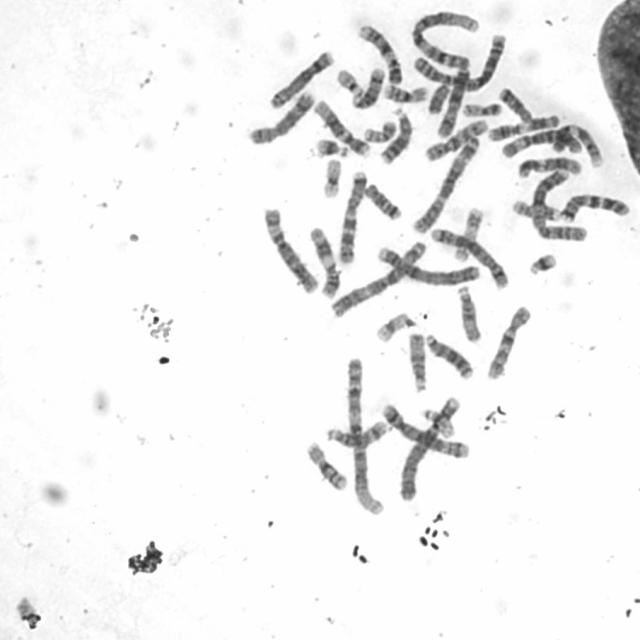A1: (341, 349, 386, 518), (406, 4, 482, 73)
A2: (408, 28, 509, 92), (528, 165, 590, 243)
A3: (326, 234, 429, 318), (407, 130, 482, 236)
B4: (394, 389, 463, 504), (373, 239, 484, 287)
B5: (376, 396, 471, 461), (426, 222, 511, 292)
C10: (482, 299, 534, 382), (419, 113, 490, 163)
C11: (305, 222, 340, 300), (483, 109, 562, 142)
C12: (309, 94, 373, 158), (513, 151, 583, 179)
C6: (258, 201, 320, 295), (496, 125, 582, 160)
C7: (334, 165, 369, 266), (556, 188, 631, 222)
C8: (263, 44, 336, 110), (242, 85, 317, 146)
C9: (352, 17, 404, 86), (546, 118, 605, 168)
D13: (420, 327, 476, 381), (375, 101, 413, 166)
D14: (321, 415, 392, 448), (347, 62, 386, 110)
D15: (452, 280, 484, 344), (404, 327, 429, 394)
E16: (301, 436, 350, 492), (378, 78, 431, 104)
E17: (450, 202, 486, 262), (507, 193, 562, 221)
E18: (359, 178, 404, 221), (494, 82, 535, 124)
F19: (370, 306, 415, 344), (317, 153, 344, 200)
F20: (359, 114, 398, 144), (458, 96, 503, 118)
G21: (524, 247, 560, 277), (311, 132, 350, 159)
G22: (417, 402, 460, 442), (332, 64, 364, 98)
X: (431, 56, 471, 139)
Y: (423, 76, 452, 115)
